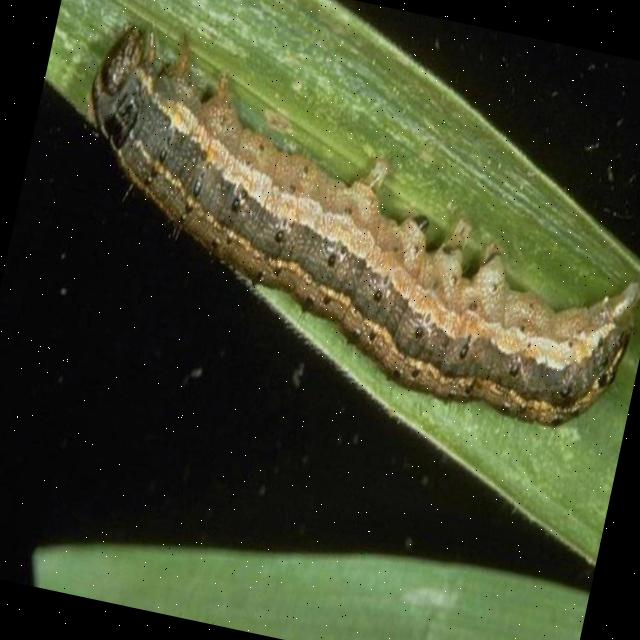worm: (42, 11, 640, 442)
